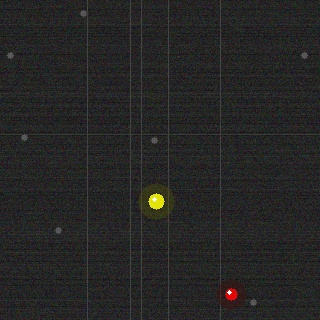red_fault: (223, 286, 239, 302)
yellow_warning: (146, 191, 166, 211)
